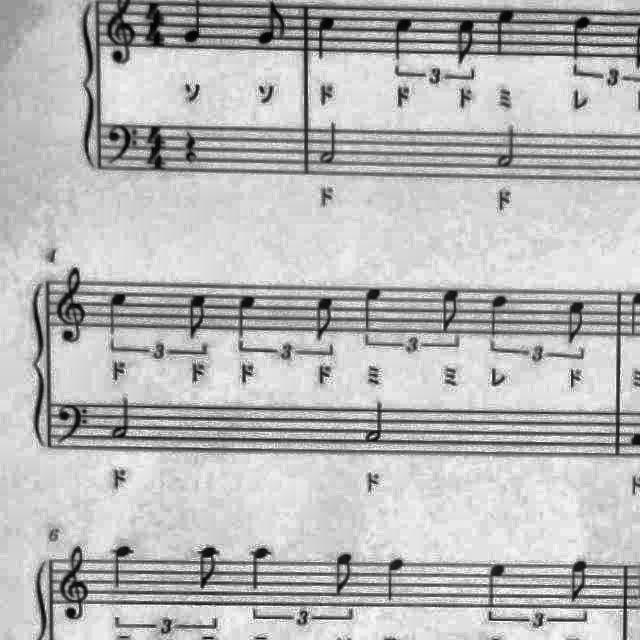Bass-clef: (54, 398, 92, 452), (105, 120, 143, 172)
Eighth-note: (254, 0, 293, 48), (182, 289, 214, 343), (192, 541, 224, 595), (452, 12, 484, 66), (562, 556, 594, 608), (560, 294, 592, 346), (310, 291, 340, 345), (437, 284, 468, 336), (330, 548, 360, 598)
Half-note: (316, 114, 348, 170), (492, 120, 524, 172), (110, 394, 138, 446), (359, 397, 388, 447)
Quarter-note: (488, 3, 522, 61), (386, 12, 420, 66), (244, 542, 278, 594), (310, 10, 342, 64), (232, 290, 264, 342), (567, 10, 599, 62), (106, 540, 138, 592), (381, 551, 411, 605), (484, 290, 514, 344), (482, 559, 512, 613), (104, 286, 132, 342), (358, 284, 388, 336), (180, 0, 212, 46)
Quarter-rest: (178, 126, 204, 168)
Treble-clef: (55, 540, 97, 622), (52, 265, 92, 351)
